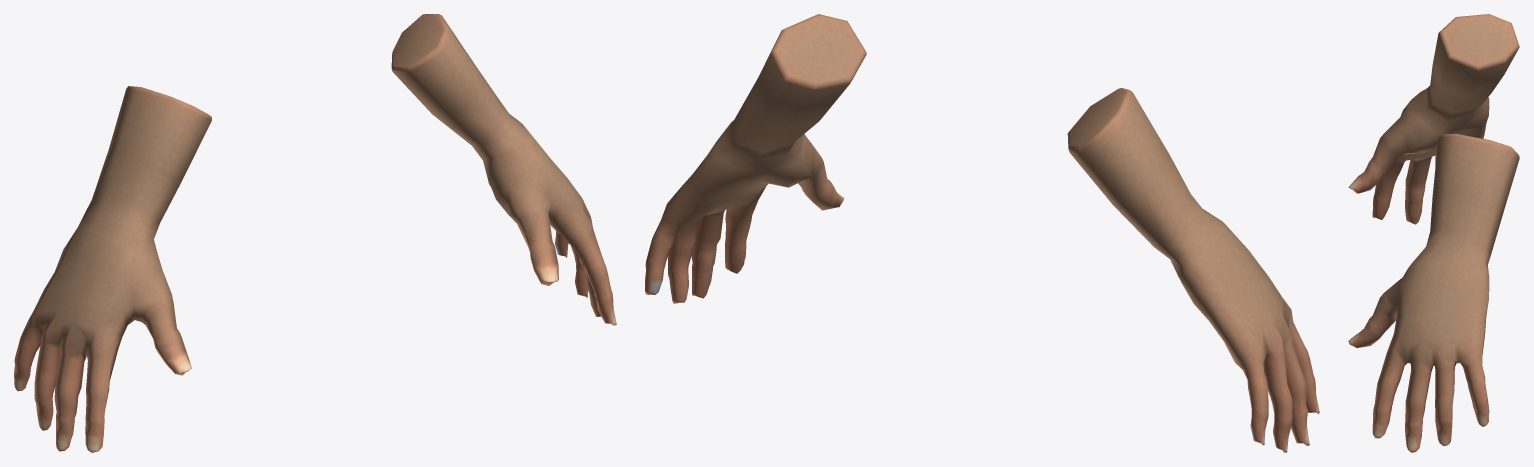
File: hand.fbx
3 renders of one model, left to right at view 1: azimuth 30°, elevation 25°; view 2: azimuth 150°, elevation 25°; view 3: azimuth 270°, elevation 25°, orthographic. The views are drawn at different scales.
Parts seen in each view (by area): view 1: Plane005; view 2: Plane005; view 3: Plane005.
Boxes of the visible parts, x1,y1,x2,y2 form: Plane005: (14, 14, 616, 452); Plane005: (645, 14, 1319, 452); Plane005: (1348, 14, 1519, 452).
Size of the model in its own units: 0.7287 by 0.3817 by 0.2262.
